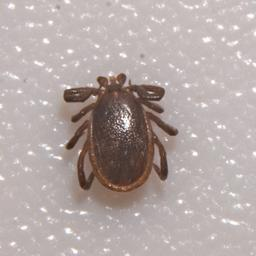Ixodes scapularis: (63, 73, 177, 195)
